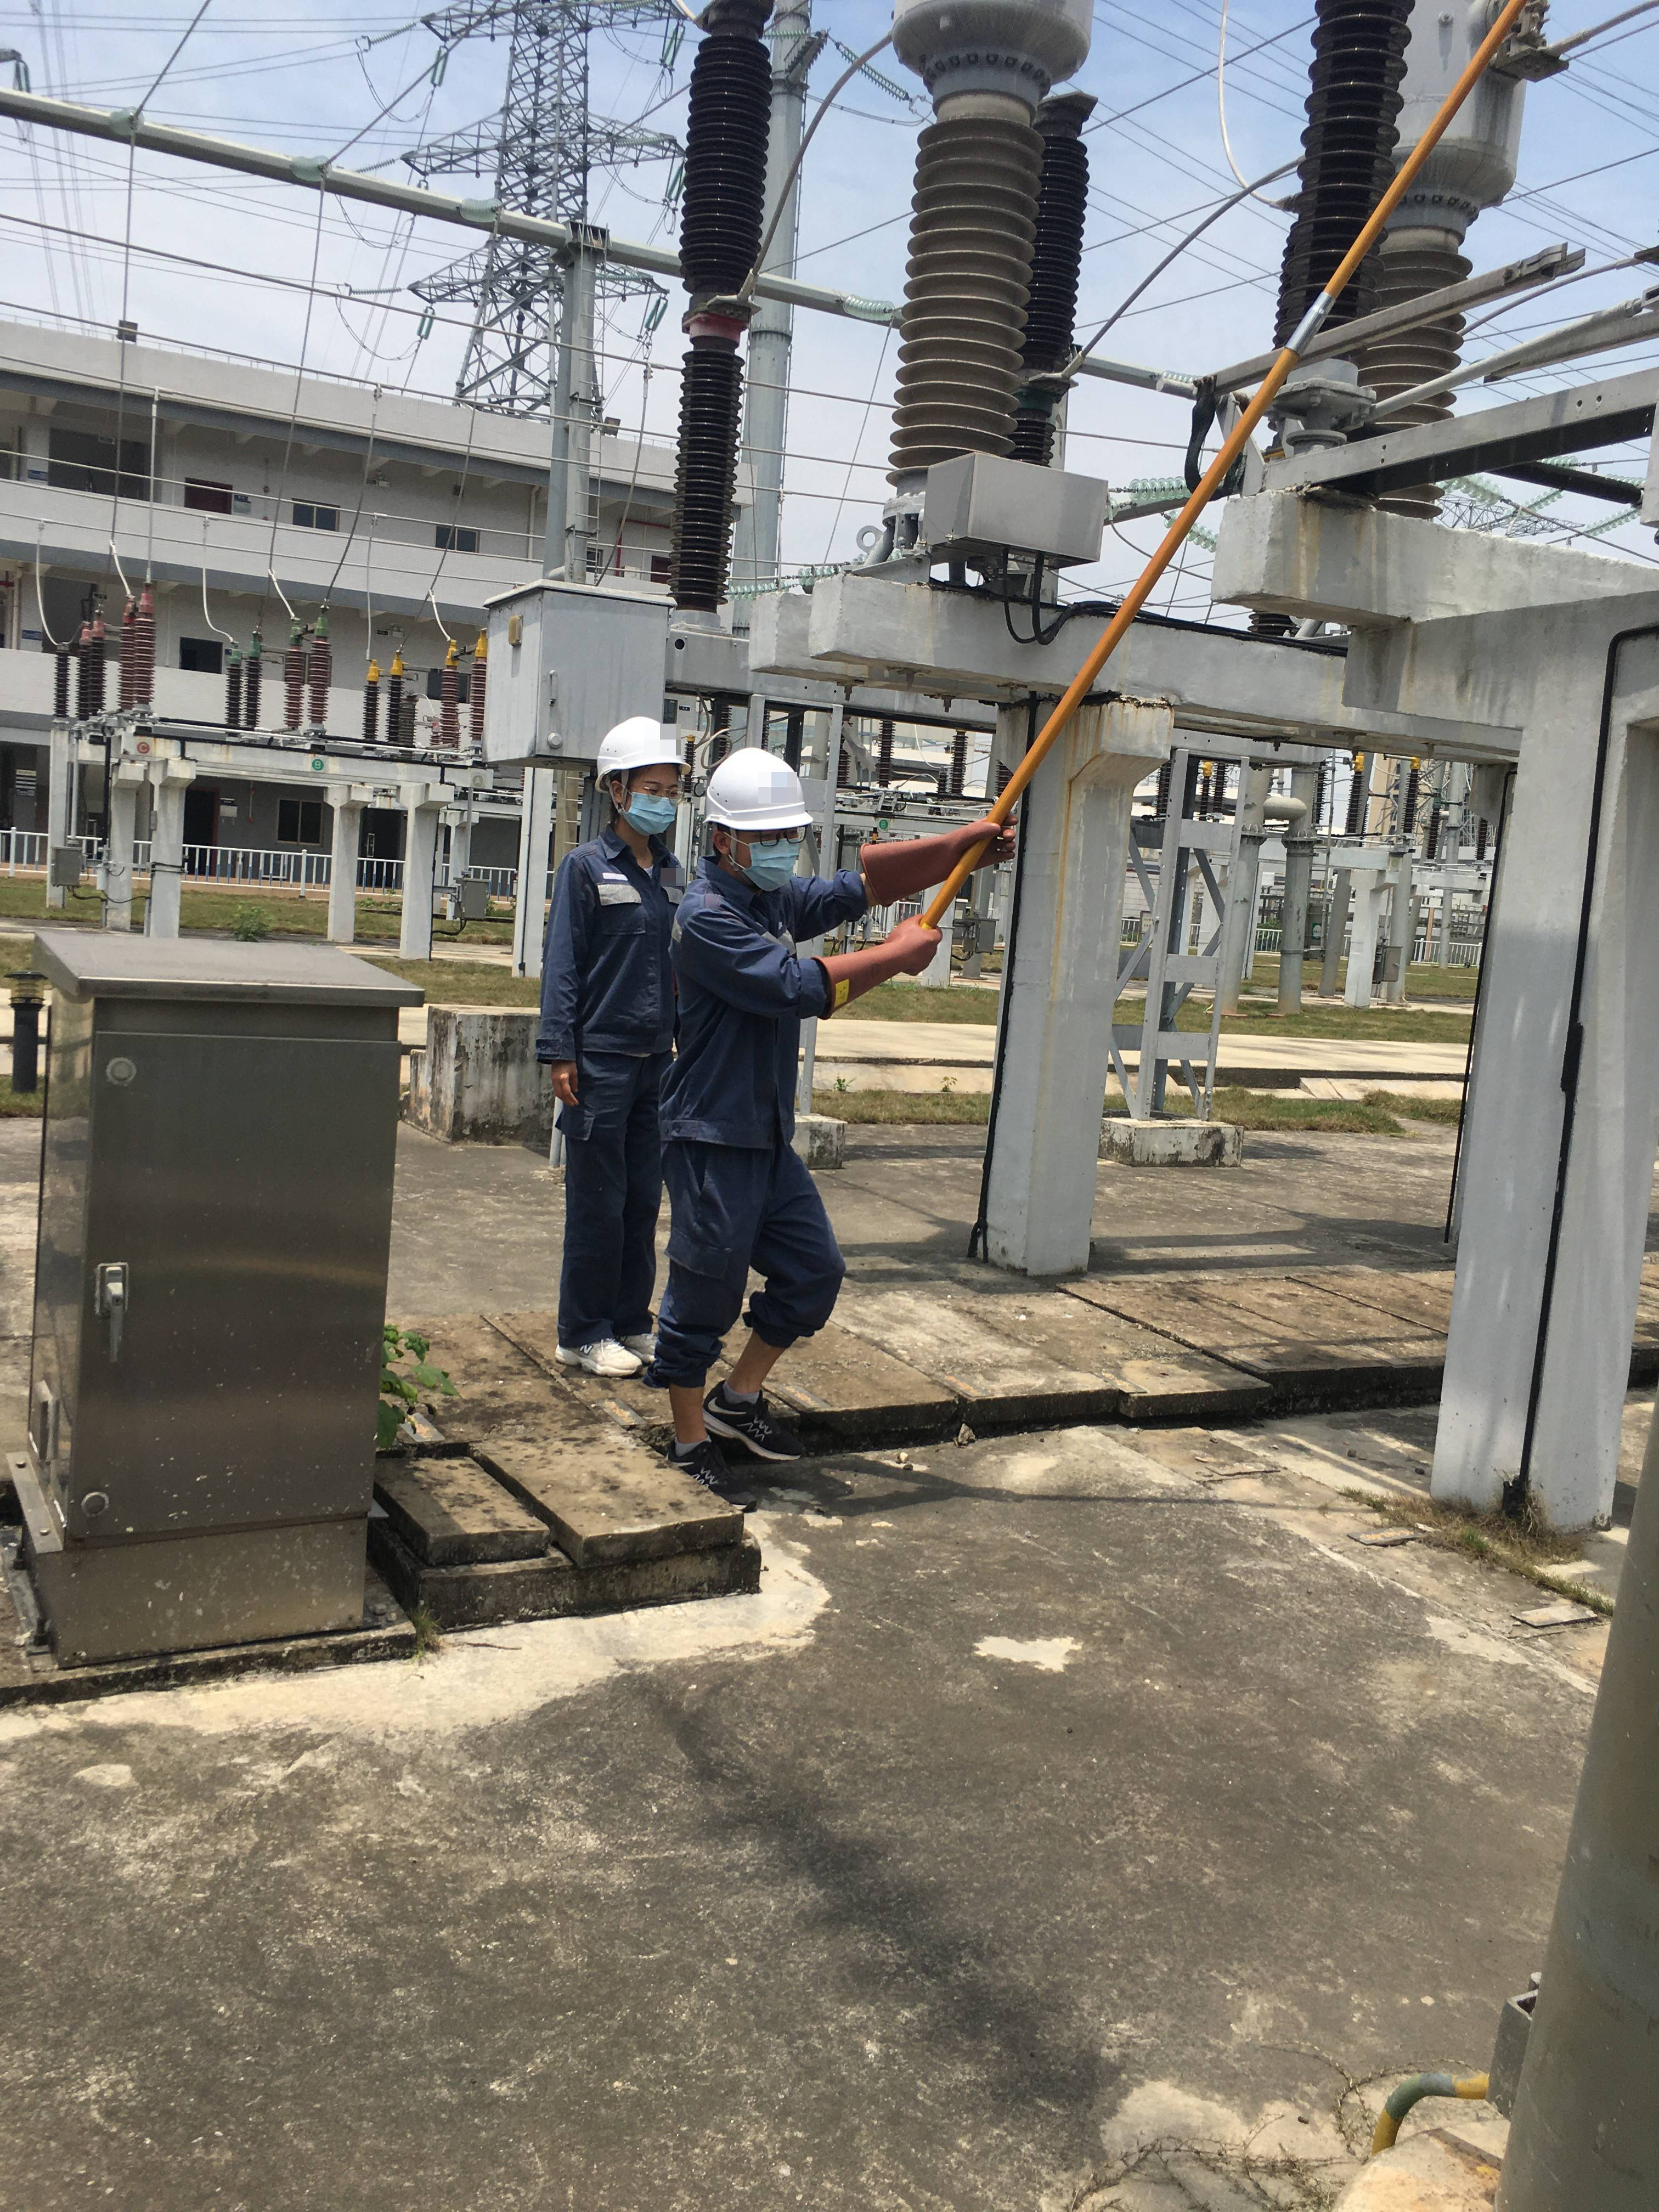downsuit: (671, 1148, 826, 1371), (549, 1071, 659, 1339)
upsuit: (674, 878, 809, 1151), (547, 840, 676, 1068)
wrongbottom: (737, 1299, 812, 1400), (659, 1343, 713, 1442)
